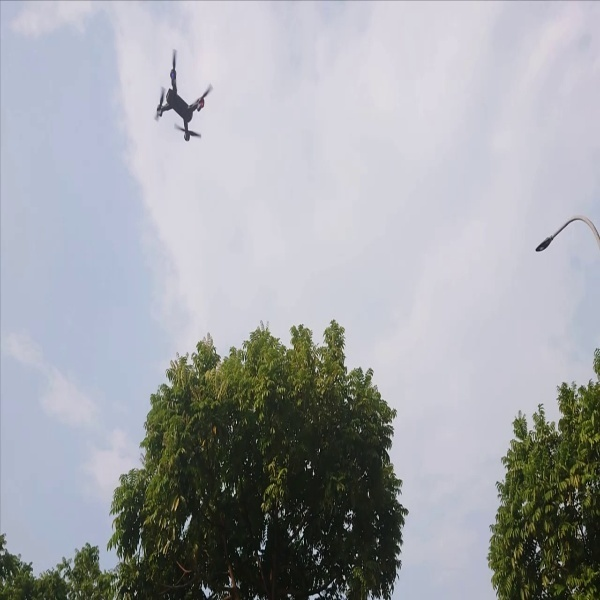drone: (142, 40, 218, 147)
